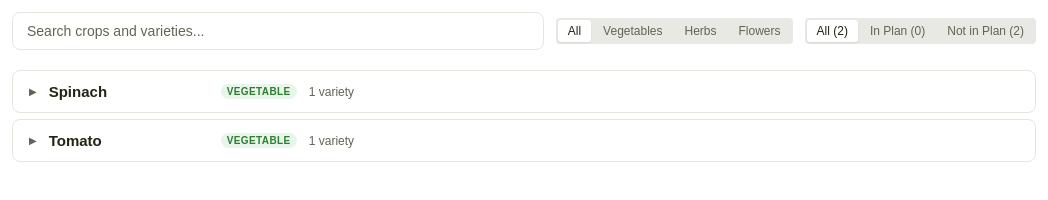
Scenario: LibraryView › search filter › filters by crop name
Type "Spinach" into the field with placeholder "Search crops and varieties..." at point(278, 31), box [12,12,544,50]
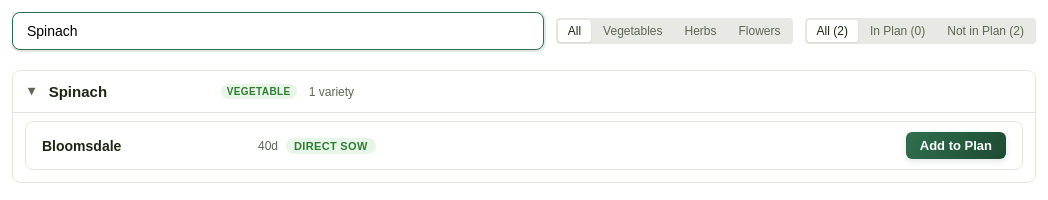
Expected: the text "Spinach" is shown, [49,83,107,100]
Result: the button "Tomato" is gone
